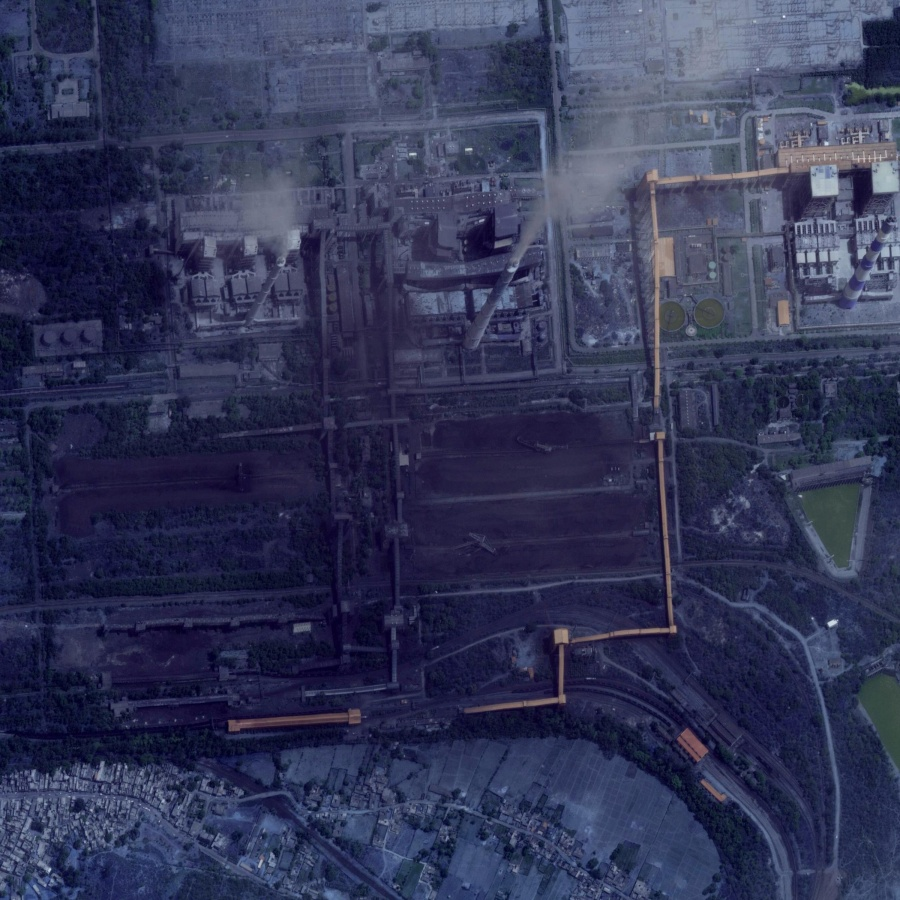PowerPlant: (24, 196, 657, 761)
